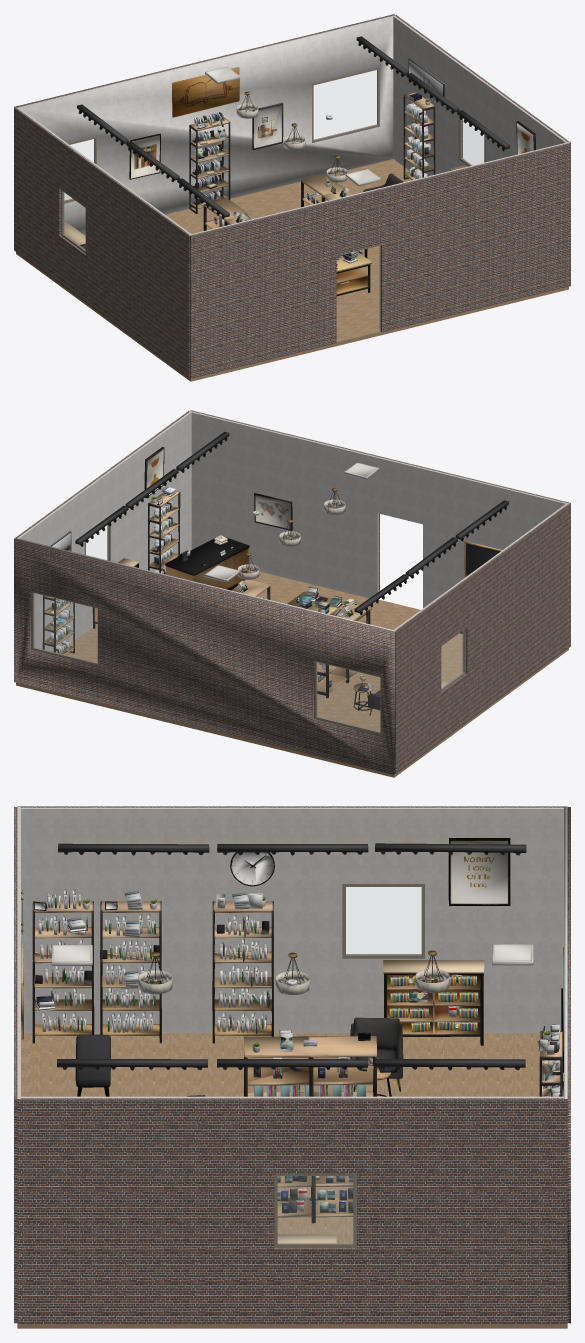
Rendered from scene_named.glb.
The picture shows the model from 3 angles, top to bottom: view 1: azimuth 30°, elevation 25°; view 2: azimuth 150°, elevation 25°; view 3: azimuth 270°, elevation 25°; orthographic projection. The views are drawn at different scales.
Visible parts, largest first — view 1: south_wall_exterior_bookstore/south_wall_exterior_bookstore/, north_wall_bookstore/north_wall_bookstore/geometry_0, west_wall_exterior_bookstore/west_wall_exterior_bookstore/ge, east_wall_bookstore/east_wall_bookstore/geometry_0, floor_bookstore, window_2_bookstore/window_2_bookstore/glass, wall_plaque_0, bookcase_5, bookcase_4, art_print_0, display_table_0, poster_0 (+16 smaller); view 2: north_wall_exterior_bookstore/north_wall_exterior_bookstore/, south_wall_bookstore/south_wall_bookstore/geometry_0, west_wall_exterior_bookstore/west_wall_exterior_bookstore/ge, east_wall_bookstore/east_wall_bookstore/geometry_0, floor_bookstore, window_2_bookstore/window_2_bookstore/glass, window_1_bookstore/window_1_bookstore/glass, checkout_counter_0, bookcase_3, world_map_print_0, shelf_unit_0, window_4_bookstore/window_4_bookstore/glass (+15 smaller); view 3: east_wall_exterior_bookstore/east_wall_exterior_bookstore/ge, west_wall_bookstore/west_wall_bookstore/geometry_0, floor_bookstore, window_4_bookstore/window_4_bookstore/glass, window_3_bookstore/window_3_bookstore/glass, shelf_unit_0, bookcase_6, quote_print_0, bookcase_1, bookcase_2, bookcase_0, north_wall_exterior_bookstore/north_wall_exterior_bookstore/ (+23 smaller).
Part boxes in pixels (bbox=[...]): south_wall_exterior_bookstore/south_wall_exterior_bookstore/: bbox=[189, 143, 570, 378]; north_wall_bookstore/north_wall_bookstore/geometry_0: bbox=[15, 15, 395, 234]; west_wall_exterior_bookstore/west_wall_exterior_bookstore/ge: bbox=[14, 108, 189, 378]; east_wall_bookstore/east_wall_bookstore/geometry_0: bbox=[393, 16, 567, 176]; floor_bookstore: bbox=[16, 159, 568, 381]; window_2_bookstore/window_2_bookstore/glass: bbox=[314, 70, 377, 139]; wall_plaque_0: bbox=[172, 67, 239, 117]; bookcase_5: bbox=[189, 118, 230, 213]; bookcase_4: bbox=[403, 92, 435, 180]; art_print_0: bbox=[252, 102, 283, 149]; display_table_0: bbox=[336, 252, 371, 296]; poster_0: bbox=[129, 133, 160, 179]; north_wall_exterior_bookstore/north_wall_exterior_bookstore/: bbox=[14, 539, 395, 774]; south_wall_bookstore/south_wall_bookstore/geometry_0: bbox=[189, 411, 569, 607]; west_wall_exterior_bookstore/west_wall_exterior_bookstore/ge: bbox=[395, 504, 570, 774]; east_wall_bookstore/east_wall_bookstore/geometry_0: bbox=[17, 412, 191, 651]; floor_bookstore: bbox=[16, 570, 568, 777]; window_2_bookstore/window_2_bookstore/glass: bbox=[34, 593, 97, 662]; window_1_bookstore/window_1_bookstore/glass: bbox=[317, 662, 379, 731]; checkout_counter_0: bbox=[165, 537, 249, 590]; bookcase_3: bbox=[148, 491, 180, 573]; world_map_print_0: bbox=[254, 493, 292, 530]; shelf_unit_0: bbox=[317, 603, 369, 698]; window_4_bookstore/window_4_bookstore/glass: bbox=[441, 631, 463, 687]; east_wall_exterior_bookstore/east_wall_exterior_bookstore/ge: bbox=[17, 1098, 567, 1323]; west_wall_bookstore/west_wall_bookstore/geometry_0: bbox=[21, 807, 563, 1033]; floor_bookstore: bbox=[17, 1033, 567, 1328]; window_4_bookstore/window_4_bookstore/glass: bbox=[346, 887, 421, 954]; window_3_bookstore/window_3_bookstore/glass: bbox=[278, 1176, 352, 1243]; shelf_unit_0: bbox=[244, 1036, 376, 1096]; bookcase_6: bbox=[383, 960, 484, 1045]; quote_print_0: bbox=[448, 838, 510, 905]; bookcase_1: bbox=[212, 901, 273, 1043]; bookcase_2: bbox=[32, 901, 94, 1043]; bookcase_0: bbox=[100, 901, 161, 1043]; north_wall_exterior_bookstore/north_wall_exterior_bookstore/: bbox=[567, 807, 570, 1323].
Size of the model in its own units: 10.1 by 3.7 by 8.1.
Materials: 79 (77 with a texture image).
